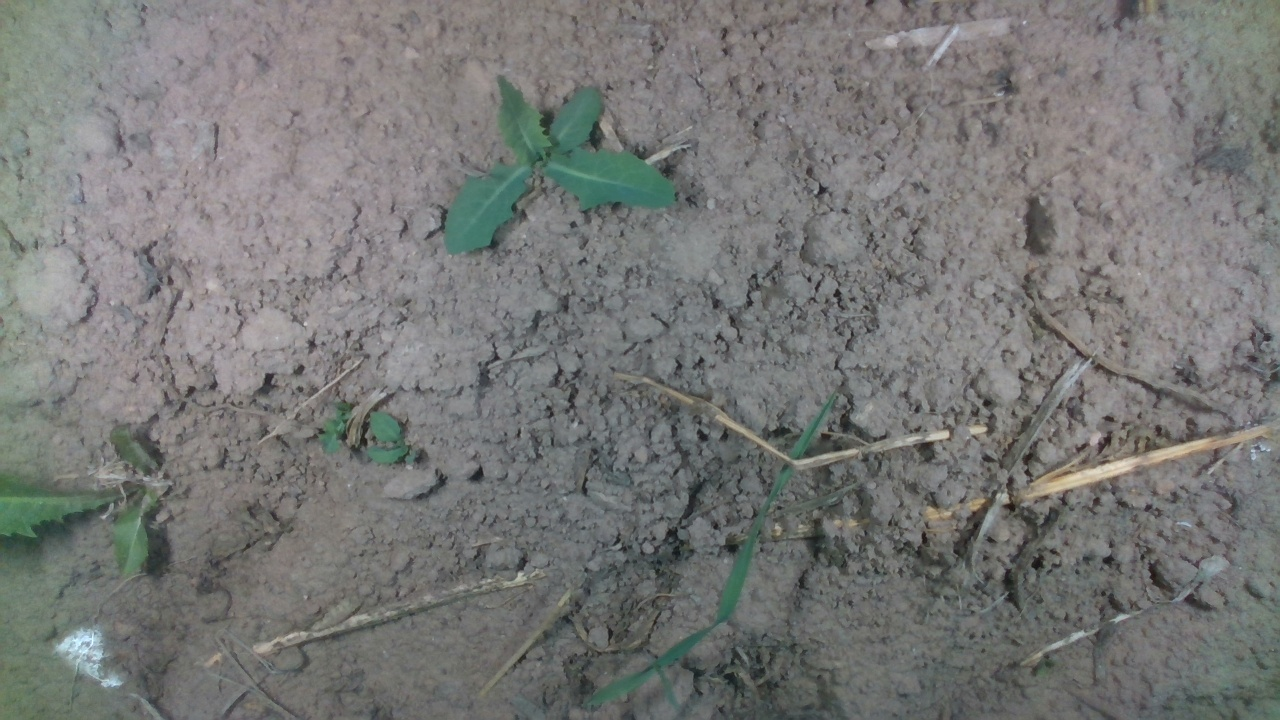weed: (442, 76, 680, 255)
